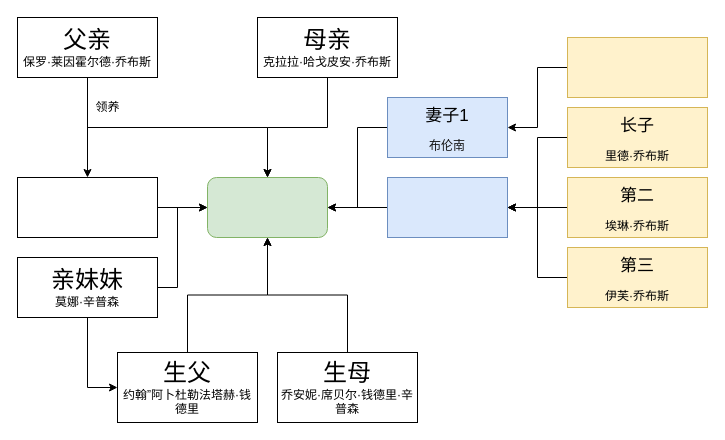
The diagram is 725 pixels wide and 440 high, and some of its shapes have lost their labels. Each missing label, with the centre of its shape:
乔布斯: the point at 267,207
妹妹 帕蒂·乔布斯: the point at 87,207
妻子2 劳伦·鲍威尔: the point at 447,207
长女 丽萨: the point at 637,67
